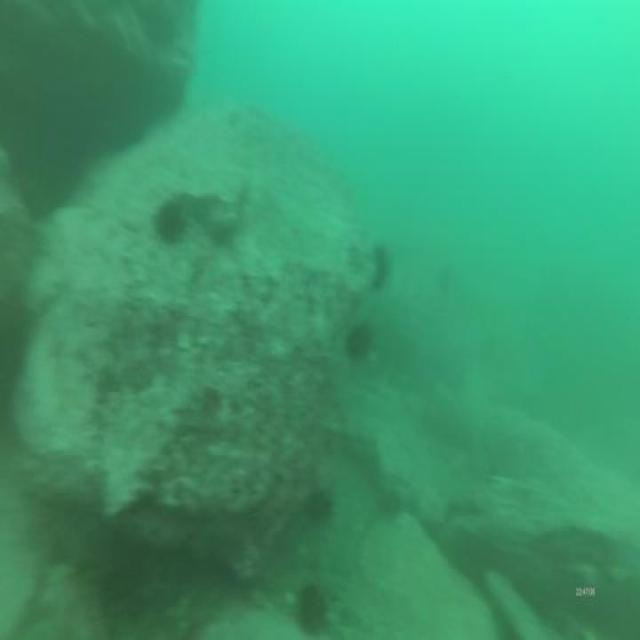echinus: (290, 577, 332, 640), (150, 193, 190, 253), (298, 480, 337, 528), (342, 318, 375, 365), (367, 240, 390, 296)
